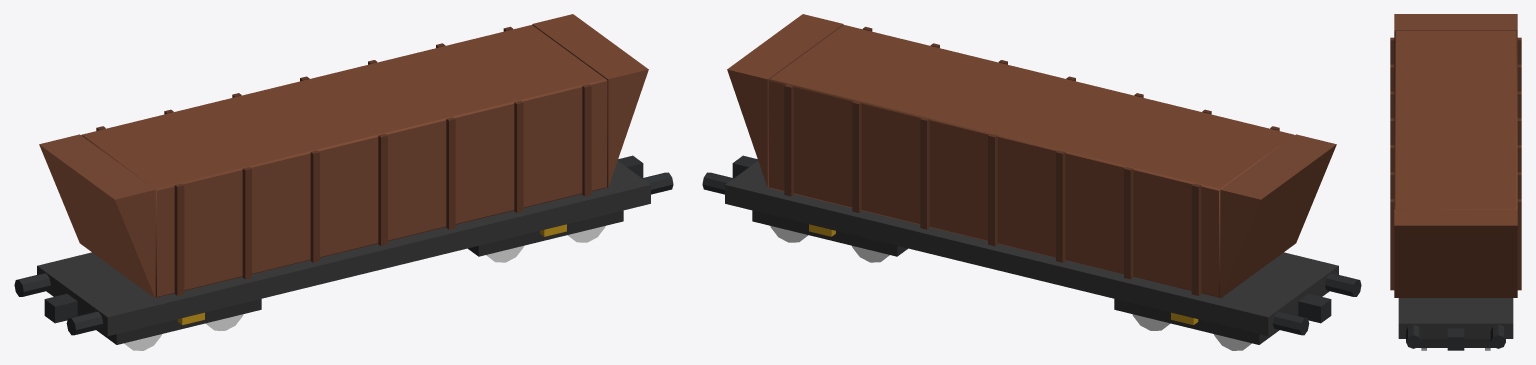
File: hopper-wagon.glb
3 renders of one model, left to right at view 1: azimuth 30°, elevation 25°; view 2: azimuth 150°, elevation 25°; view 3: azimuth 270°, elevation 25°, orthographic. The views are drawn at different scales.
Visible parts, largest first — view 1: Piece_lod0; view 2: Piece_lod0; view 3: Piece_lod0.
Part boxes in pixels (x1=…): Piece_lod0: x1=14, y1=14, x2=673, y2=350; Piece_lod0: x1=702, y1=14, x2=1361, y2=350; Piece_lod0: x1=1390, y1=14, x2=1521, y2=350.
Size of what is drawn, in the model's own units: 13.2 by 3.68 by 3.1.
